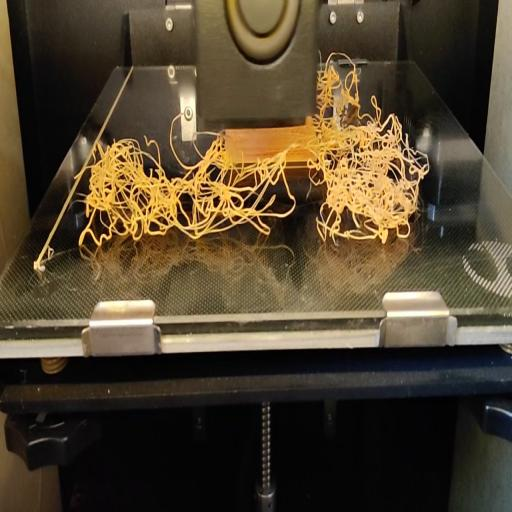spaghetti: (69, 116, 431, 260), (317, 42, 382, 116)
